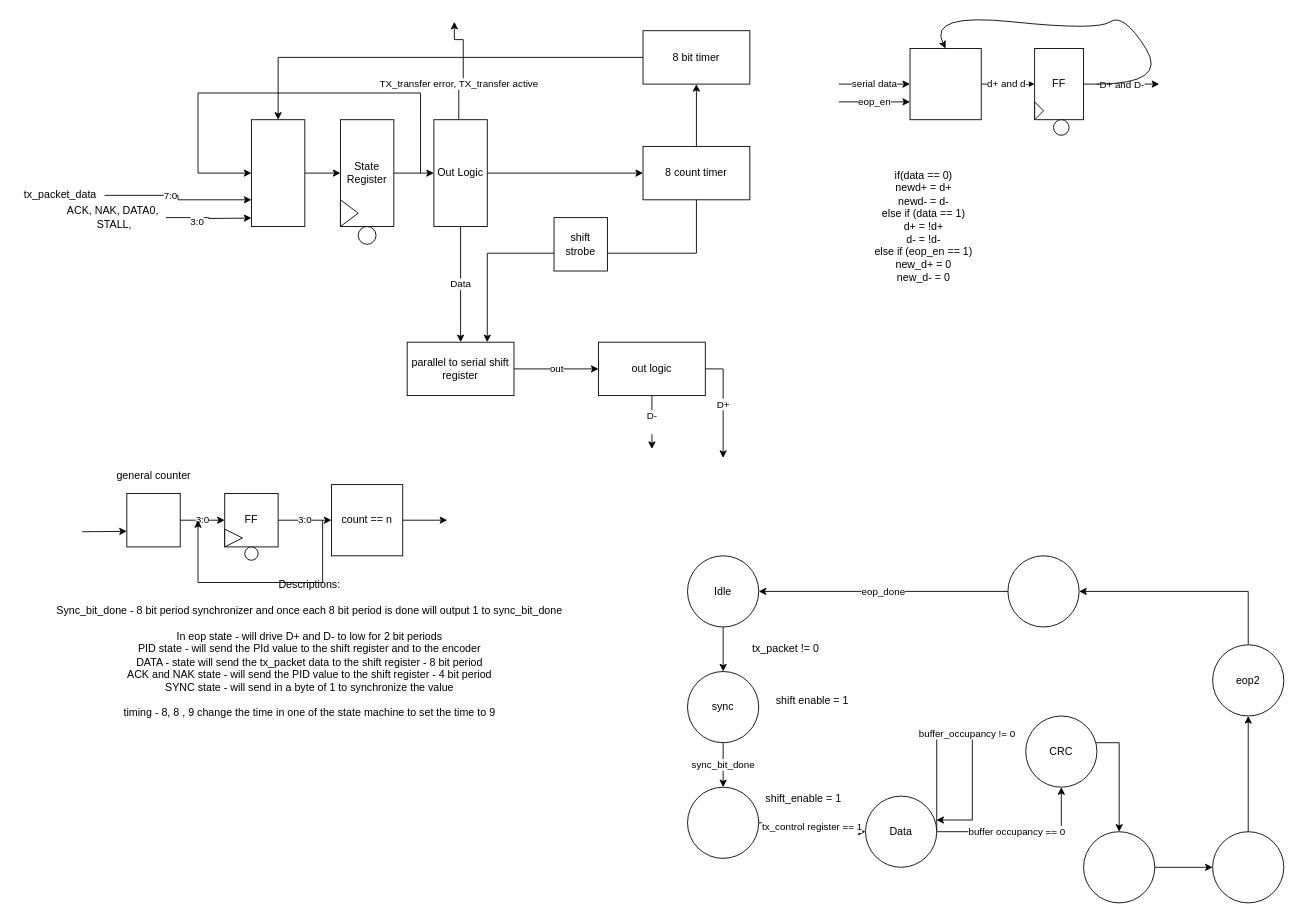
Image size: 1299x918. Some labels were removed from this diagram. The centre of each missing label's shape, as x and y in pixels:
comb logic: [945,84]
CRC2: [1119,867]
eop1: [1248,867]
eop3: [1043,591]
next cnt logic: [153,520]
next state logic: [278,173]
Pid: [723,822]
